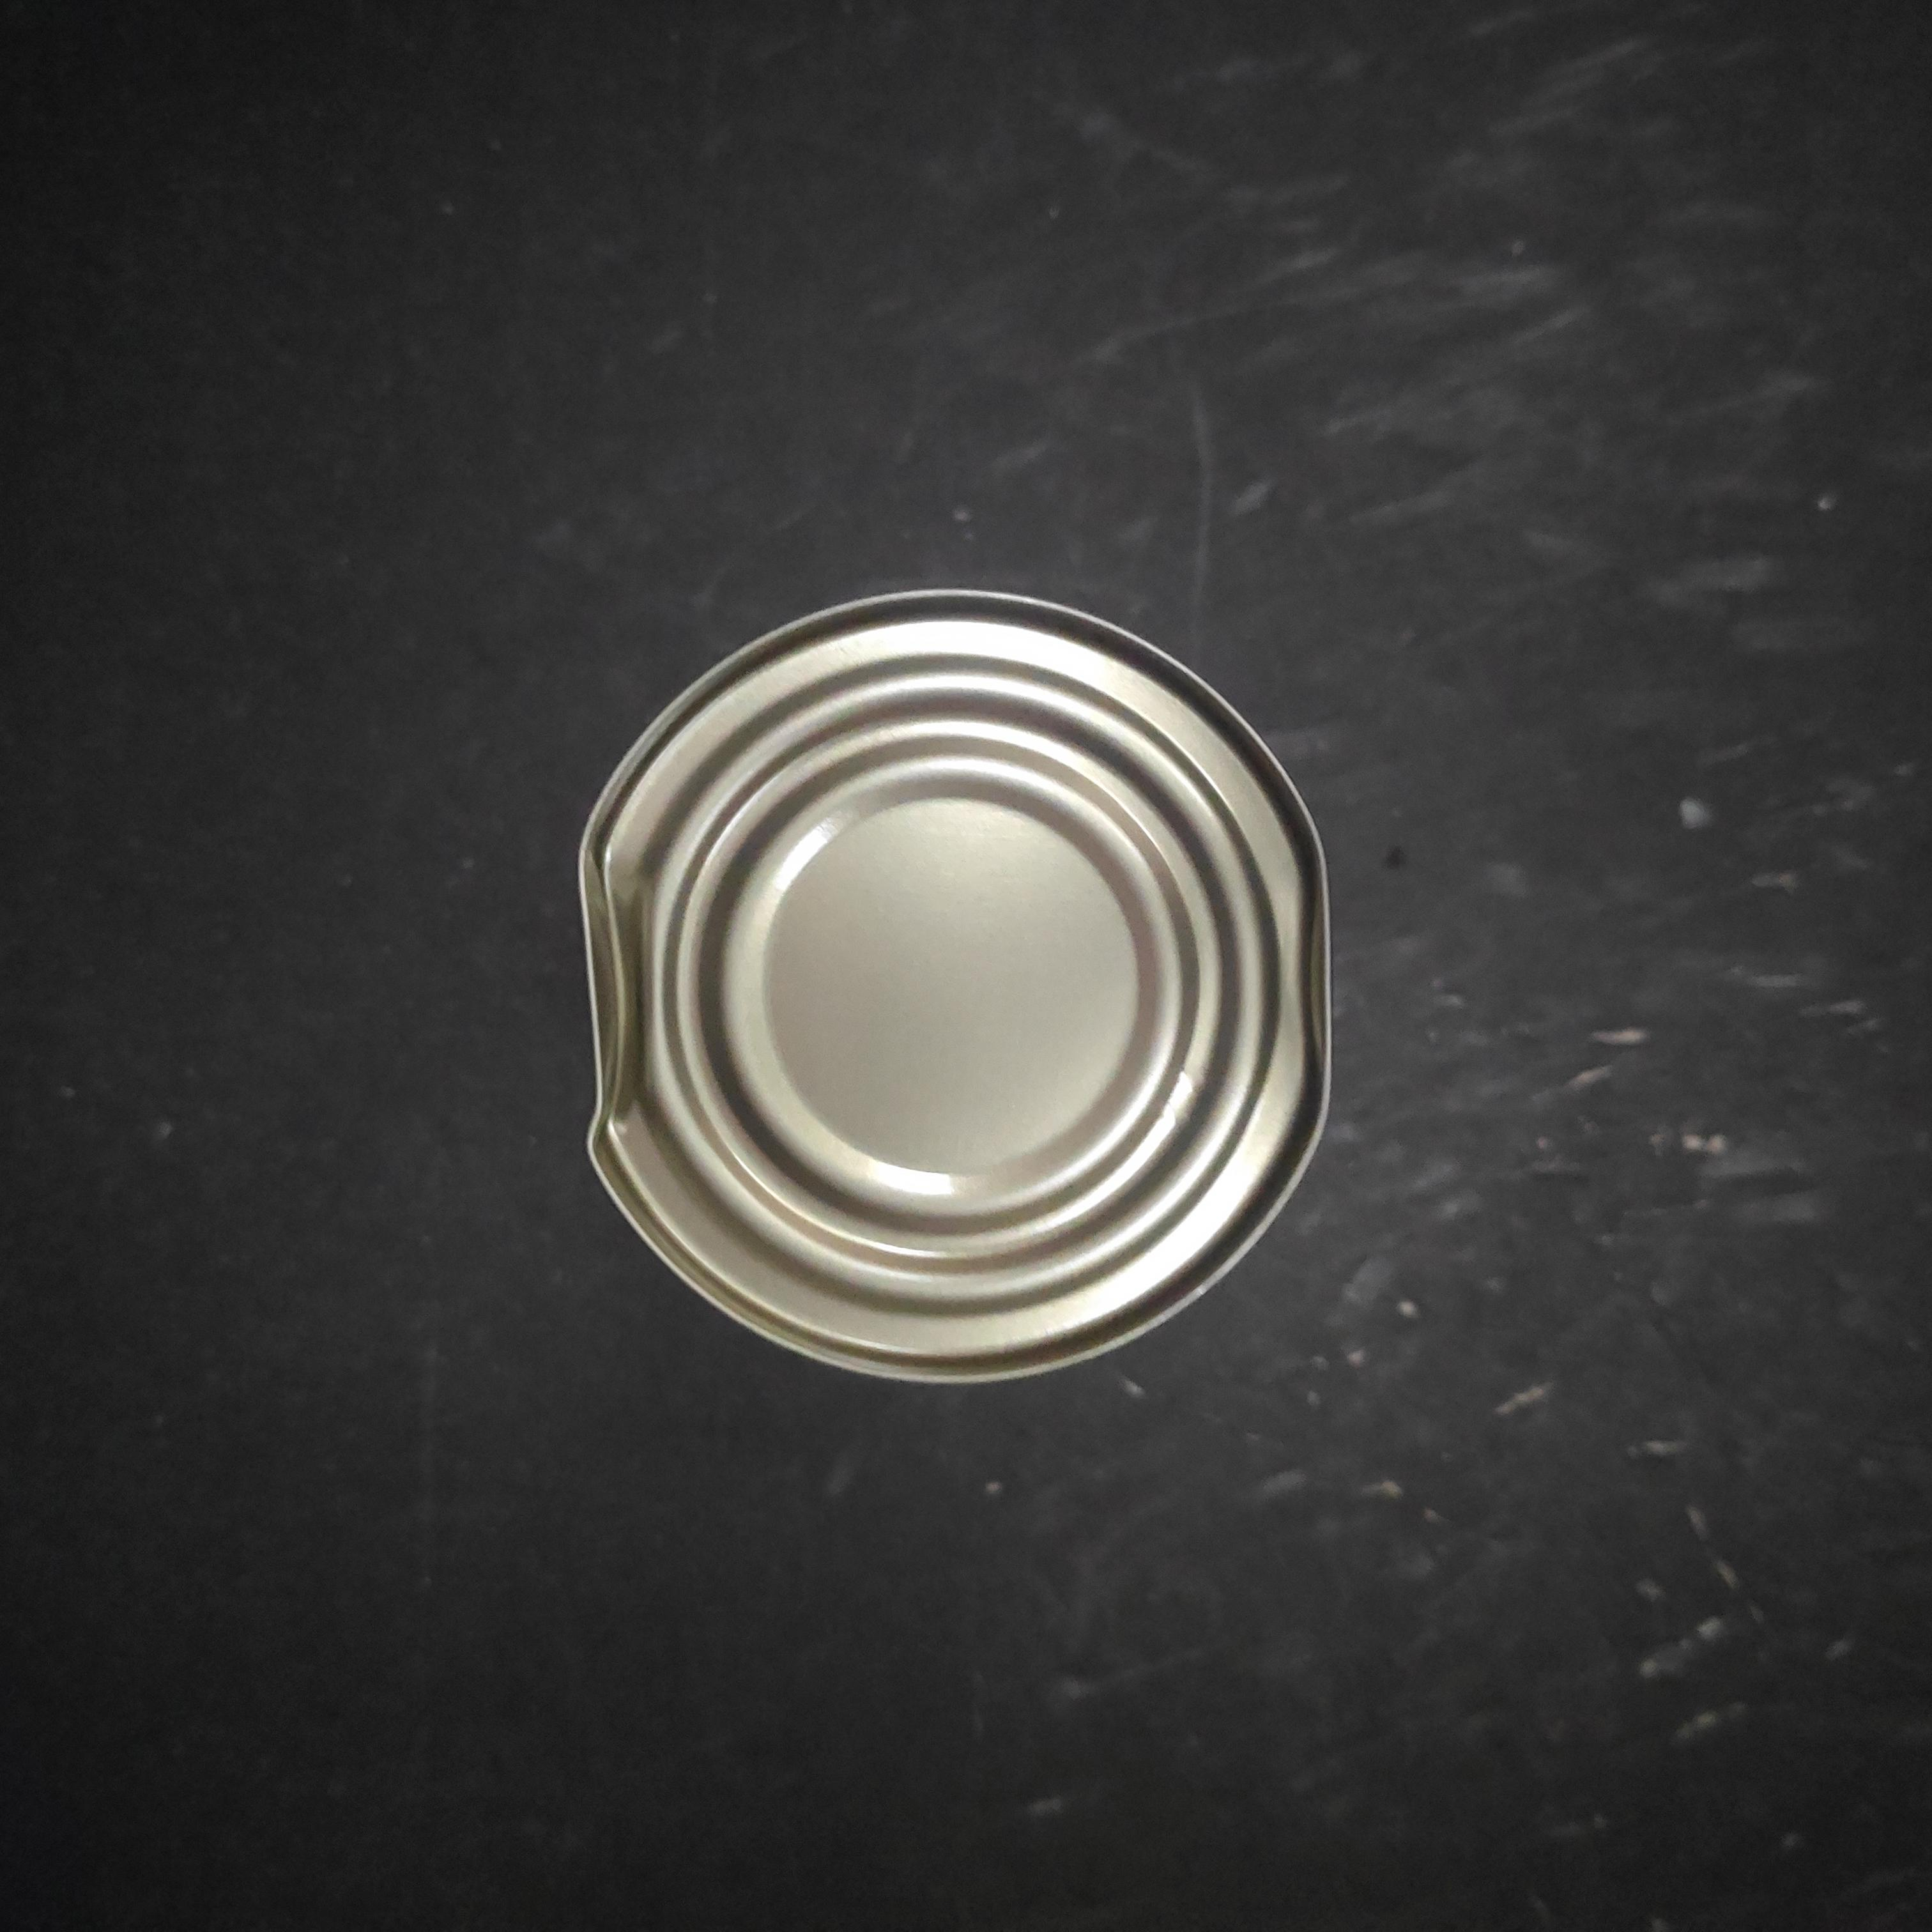Minor Defect: (593, 538, 1364, 1361)
